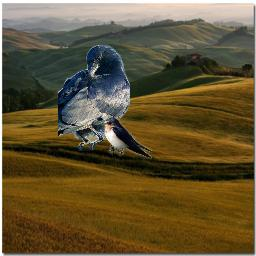Crow: (58, 45, 130, 151)
Swallow: (101, 116, 153, 159)
